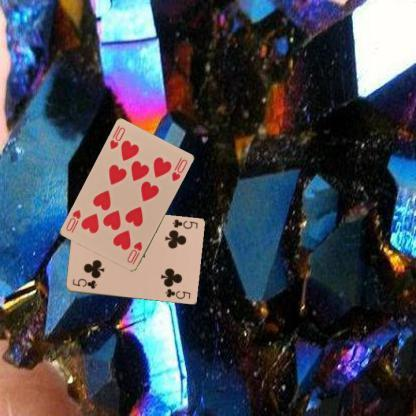10h: (107, 125, 127, 151), (125, 239, 144, 266)
5c: (170, 216, 199, 231), (70, 276, 98, 290)
